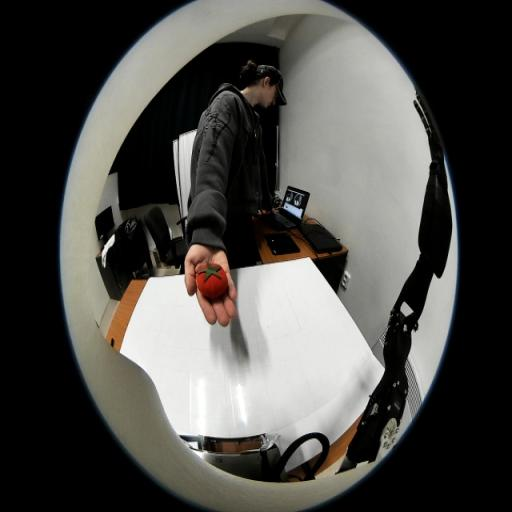Tomato: (196, 263, 228, 299)
